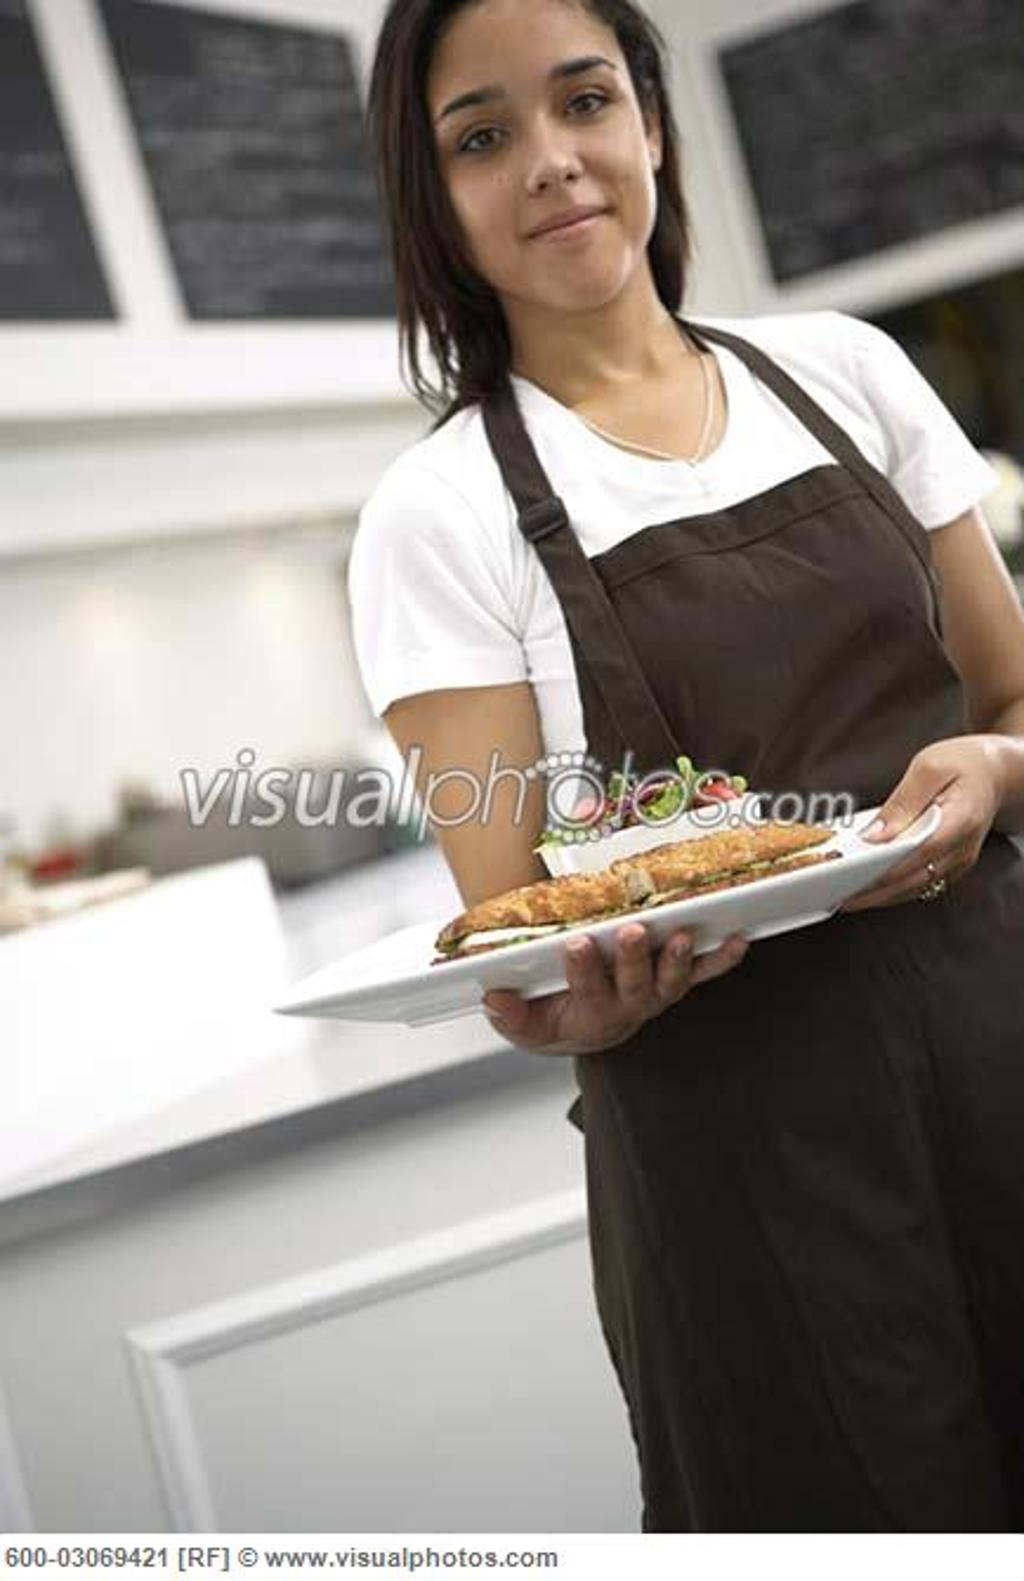face: (423, 12, 660, 305)
